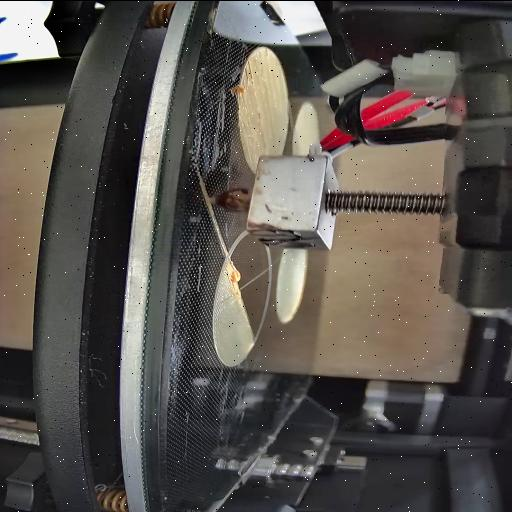under_extrusion: (238, 59, 258, 87), (257, 111, 267, 151), (261, 46, 269, 60)
